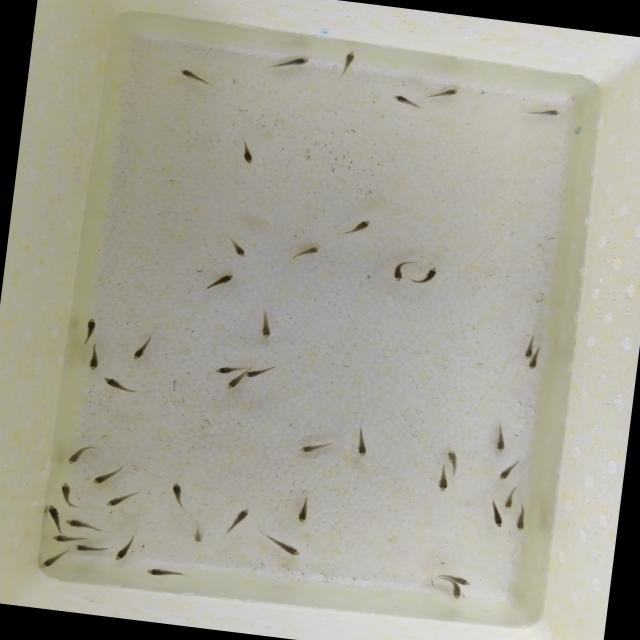fingerling: (264, 48, 316, 76), (259, 531, 306, 560), (334, 214, 381, 242), (386, 90, 434, 116), (198, 268, 240, 296), (284, 240, 324, 268), (332, 43, 361, 80), (252, 306, 279, 344), (411, 260, 443, 292), (222, 504, 252, 538), (518, 102, 564, 124), (173, 65, 217, 88), (292, 436, 334, 460), (88, 461, 124, 488), (232, 134, 260, 168), (350, 423, 375, 461), (220, 234, 252, 262), (140, 564, 188, 582), (164, 477, 190, 510), (494, 454, 522, 484), (489, 421, 513, 456), (384, 257, 412, 287), (426, 83, 468, 103), (111, 534, 138, 564), (482, 504, 508, 534), (290, 495, 314, 527), (38, 547, 68, 572), (104, 487, 136, 510), (131, 334, 154, 365), (508, 504, 530, 536), (64, 442, 92, 467), (41, 501, 65, 530), (56, 479, 80, 508), (184, 520, 210, 546), (84, 344, 105, 376), (82, 311, 102, 344), (98, 373, 132, 392), (63, 516, 103, 532), (437, 571, 475, 587), (442, 445, 465, 470), (432, 466, 451, 496), (70, 541, 109, 555), (500, 482, 519, 509), (210, 362, 245, 376), (245, 364, 273, 381), (223, 374, 245, 393), (49, 531, 81, 544), (526, 348, 543, 372), (519, 333, 534, 359), (448, 583, 464, 600)
